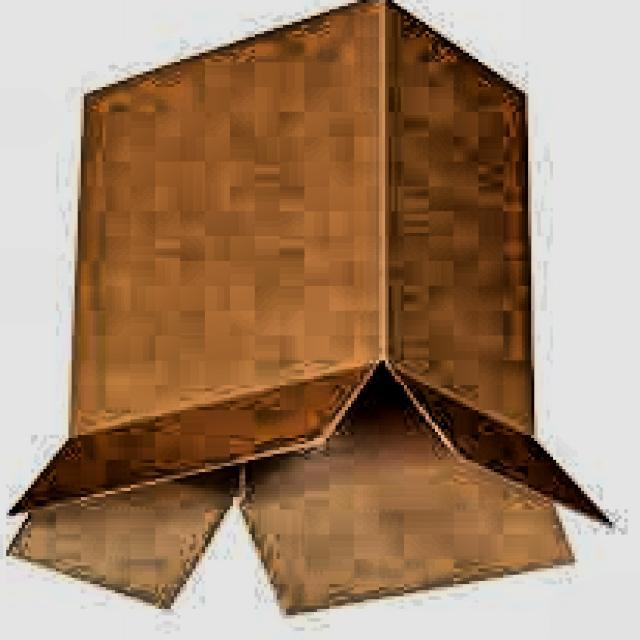cardboard: (3, 0, 612, 622)
